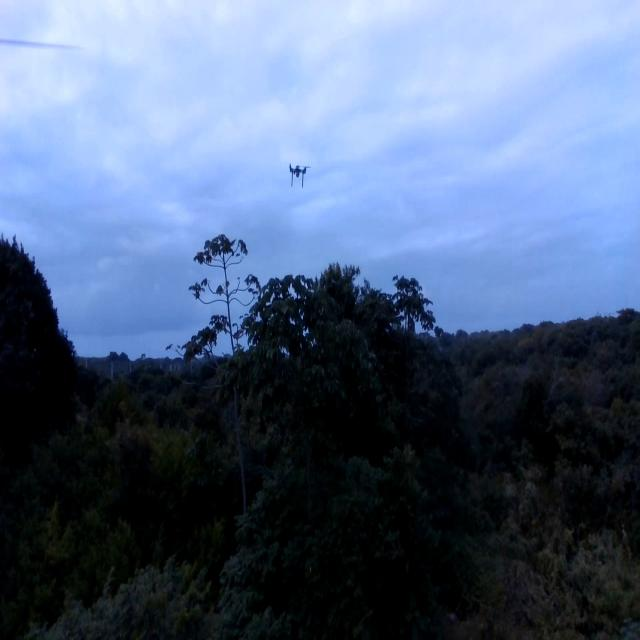-uav-: (279, 158, 319, 206)
